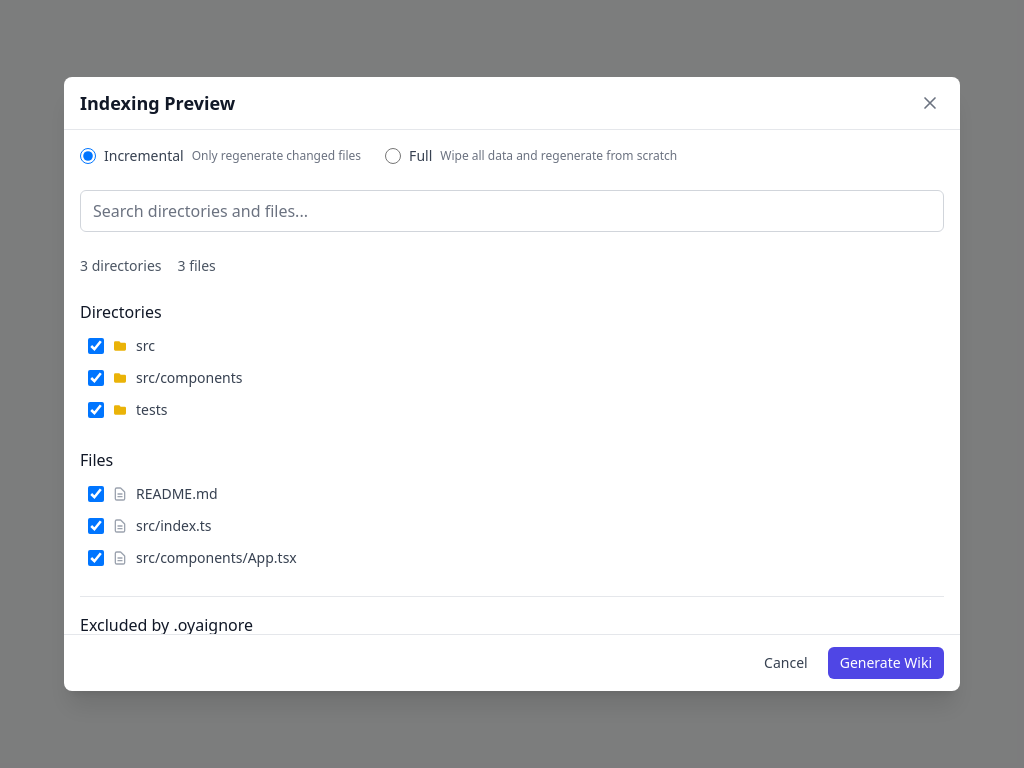
Test: IndexingPreviewModal › search filtering › filters directories by search query
Expected: the text "src" is shown, [136,336,155,356]
Type "component" into the field with placeholder "Search directories and files..." at (512, 211), box [80,190,944,232]
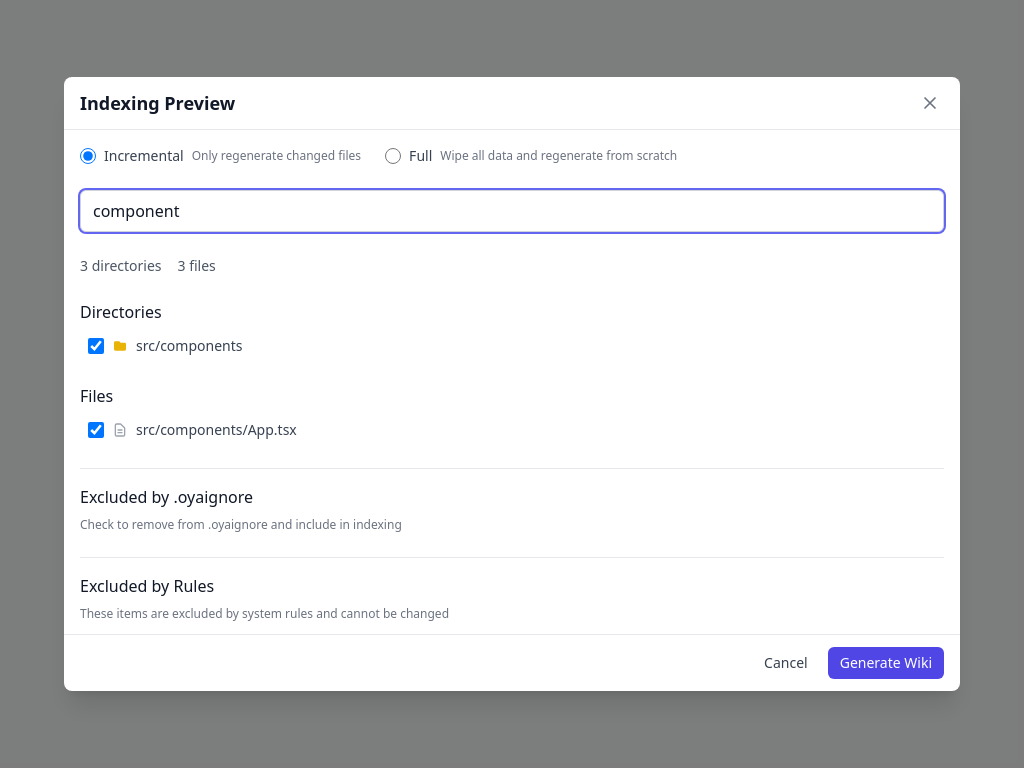
Expected: the text "src/components" is shown, [136,336,242,356]
Expected: the text "tests" is gone
